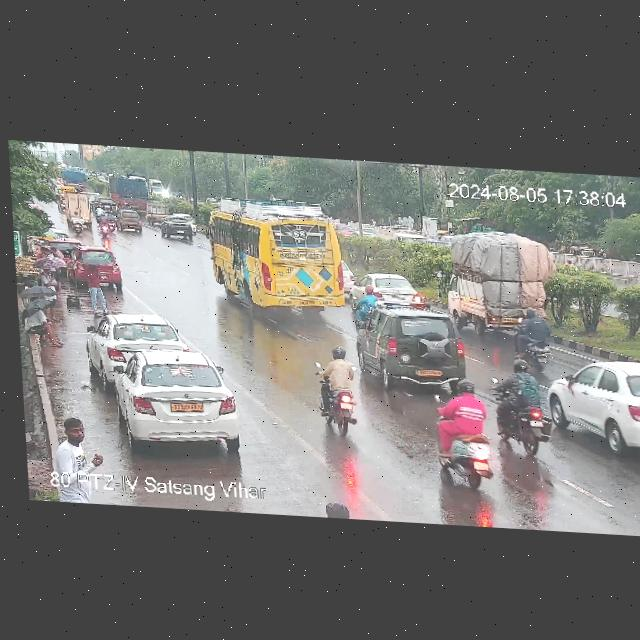bus: (207, 195, 353, 314)
car: (100, 347, 245, 452), (357, 305, 472, 392), (551, 359, 640, 458), (89, 312, 187, 374), (351, 271, 428, 307), (75, 247, 124, 285), (156, 211, 197, 242), (62, 184, 91, 222), (389, 227, 433, 252), (115, 209, 144, 233)
motorcycle: (431, 375, 491, 489), (493, 359, 548, 454), (317, 344, 363, 436), (512, 311, 559, 368), (96, 212, 118, 237), (71, 213, 85, 234)
person: (48, 417, 99, 478), (26, 305, 68, 346), (80, 262, 109, 313), (305, 501, 380, 520), (41, 247, 69, 290)
truck: (443, 230, 557, 338), (111, 175, 157, 208)
